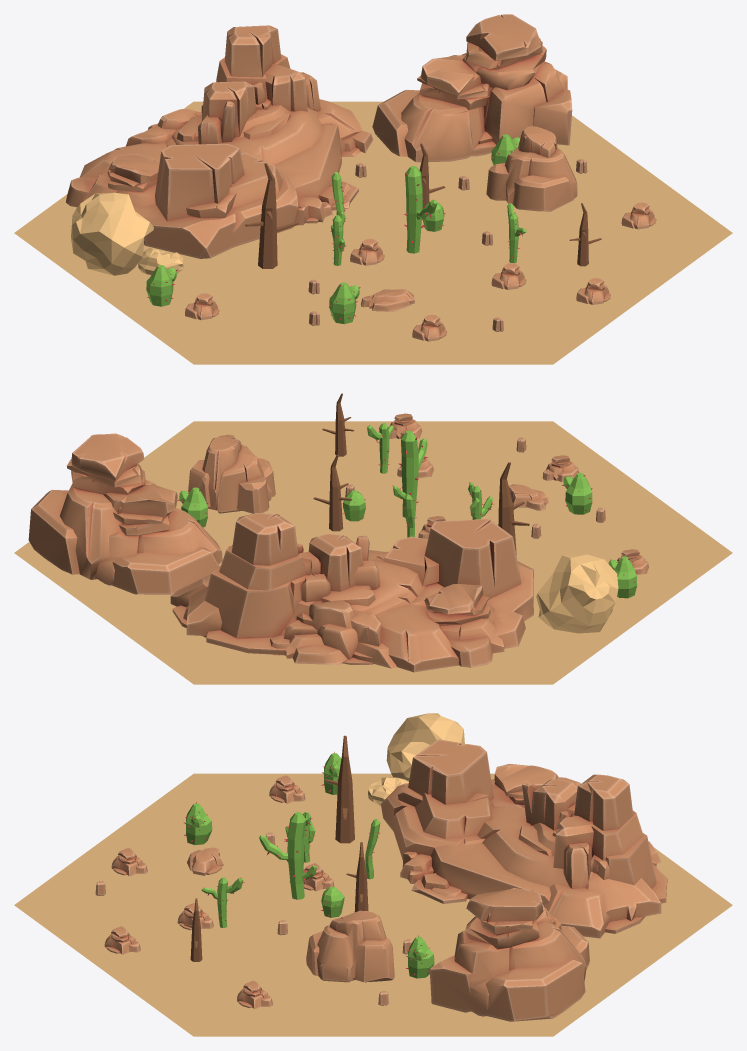
File: desert.glb
The picture shows the model from 3 angles, top to bottom: view 1: azimuth 30°, elevation 25°; view 2: azimuth 150°, elevation 25°; view 3: azimuth 270°, elevation 25°; orthographic projection.
Parts seen in each view (by area): view 1: base.001, Rock_1_Rock_1_0.001, Rock_3, group1089375564, Rock_2_Rock_2_0.001, Cube.013_M_Cactus_2_Material_0, Cylinder.002, Cube.013_M_Cactus_2_Material_0.001, Cube.013_M_CactusColor2_1_Material_0.001, Cube.013_M_Cactus_2_Material_0.002, Rock_4_Rock_4_0.001, Rock_13_Rock_13_0.002 (+6 smaller); view 2: base.001, Rock_1_Rock_1_0.001, Rock_3, group1089375564, Rock_2_Rock_2_0.001, Cube.013_M_Cactus_2_Material_0, Cube.013_M_Cactus_2_Material_0.001, Cube.013_M_CactusColor2_1_Material_0.001, Cylinder.002, Cylinder.001, Cube.013_M_Cactus_2_Material_0.002, Cube.013_M_CactusColor2_1_Material_0.003 (+4 smaller); view 3: base.001, Rock_1_Rock_1_0.001, Rock_3, Rock_2_Rock_2_0.001, group1089375564, Cube.013_M_Cactus_2_Material_0, Cube.013_M_Cactus_2_Material_0.001, Cylinder.002, Cube.013_M_CactusColor2_1_Material_0.001, Cube.013_M_CactusColor2_1_Material_0.003, Rock_4_Rock_4_0.001, Rock_13_Rock_13_0.003 (+8 smaller).
Part boxes in pixels (x1,y1,x2,y2): base.001: [14, 101, 732, 364]; Rock_1_Rock_1_0.001: [66, 25, 373, 258]; Rock_3: [372, 14, 572, 162]; group1089375564: [71, 192, 183, 275]; Rock_2_Rock_2_0.001: [486, 126, 577, 211]; Cube.013_M_Cactus_2_Material_0: [331, 172, 526, 265]; Cylinder.002: [245, 163, 298, 268]; Cube.013_M_Cactus_2_Material_0.001: [405, 166, 437, 253]; Cube.013_M_CactusColor2_1_Material_0.001: [329, 282, 360, 324]; Cube.013_M_Cactus_2_Material_0.002: [146, 265, 177, 306]; Rock_4_Rock_4_0.001: [361, 289, 414, 311]; Rock_13_Rock_13_0.002: [621, 202, 656, 229]; base.001: [14, 421, 732, 684]; Rock_1_Rock_1_0.001: [170, 513, 533, 672]; Rock_3: [28, 433, 222, 594]; group1089375564: [536, 554, 618, 633]; Rock_2_Rock_2_0.001: [188, 437, 275, 513]; Cube.013_M_Cactus_2_Material_0: [343, 423, 492, 537]; Cube.013_M_Cactus_2_Material_0.001: [393, 430, 427, 517]; Cube.013_M_CactusColor2_1_Material_0.001: [562, 472, 592, 514]; Cylinder.002: [498, 462, 529, 554]; Cylinder.001: [313, 454, 352, 531]; Cube.013_M_Cactus_2_Material_0.002: [608, 556, 637, 598]; Cube.013_M_CactusColor2_1_Material_0.003: [177, 487, 208, 527]; base.001: [14, 773, 732, 1036]; Rock_1_Rock_1_0.001: [381, 739, 667, 938]; Rock_3: [429, 888, 589, 1021]; Rock_2_Rock_2_0.001: [306, 910, 394, 982]; group1089375564: [368, 713, 464, 806]; Cube.013_M_Cactus_2_Material_0: [201, 812, 380, 927]; Cube.013_M_Cactus_2_Material_0.001: [259, 812, 316, 899]; Cylinder.002: [324, 735, 354, 843]; Cube.013_M_CactusColor2_1_Material_0.001: [183, 802, 212, 844]; Cube.013_M_CactusColor2_1_Material_0.003: [406, 935, 434, 978]; Rock_4_Rock_4_0.001: [187, 847, 223, 875]; Rock_13_Rock_13_0.003: [269, 775, 305, 803].
Size of the model in its own units: 0.8685 by 0.1829 by 1.
Materials: 11 (6 with a texture image).
